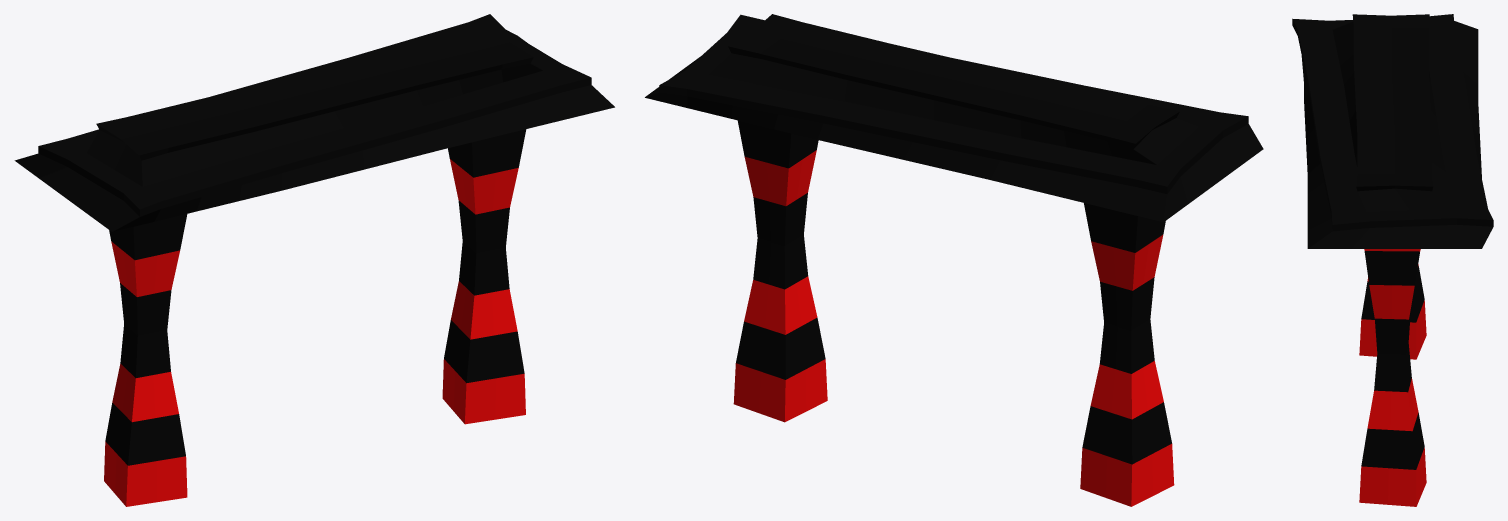
The model's file is portail.fbx.
3 views of the same model, side by side, from view 1: azimuth 30°, elevation 25°; view 2: azimuth 150°, elevation 25°; view 3: azimuth 270°, elevation 25° (orthographic). The views are drawn at different scales.
Parts seen in each view (by area): view 1: Cube.027; view 2: Cube.027; view 3: Cube.027.
Part boxes in pixels (left/top/right/bottom): Cube.027: left=14, top=14, right=614, bottom=506; Cube.027: left=645, top=14, right=1263, bottom=506; Cube.027: left=1292, top=14, right=1493, bottom=506.
Bounding box in the file's own units: 1791 × 1211 × 693.
